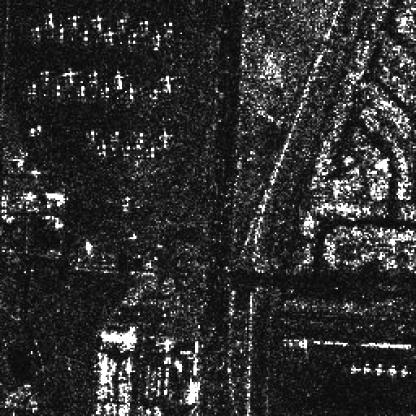airplane: (133, 15, 153, 31), (60, 66, 76, 84), (39, 68, 52, 90), (161, 18, 179, 32), (98, 81, 112, 99), (125, 30, 140, 46), (112, 72, 125, 90), (102, 28, 116, 44), (150, 31, 162, 49), (125, 84, 137, 102), (26, 80, 39, 96), (55, 25, 67, 42), (117, 12, 128, 30), (91, 13, 104, 28), (30, 24, 42, 40), (68, 10, 80, 26), (44, 10, 55, 26), (80, 26, 91, 42), (88, 70, 99, 86), (398, 364, 411, 377), (76, 83, 88, 97), (52, 83, 63, 97), (374, 362, 384, 374), (387, 362, 396, 374), (362, 361, 370, 372), (349, 366, 359, 372), (374, 413, 384, 414)
